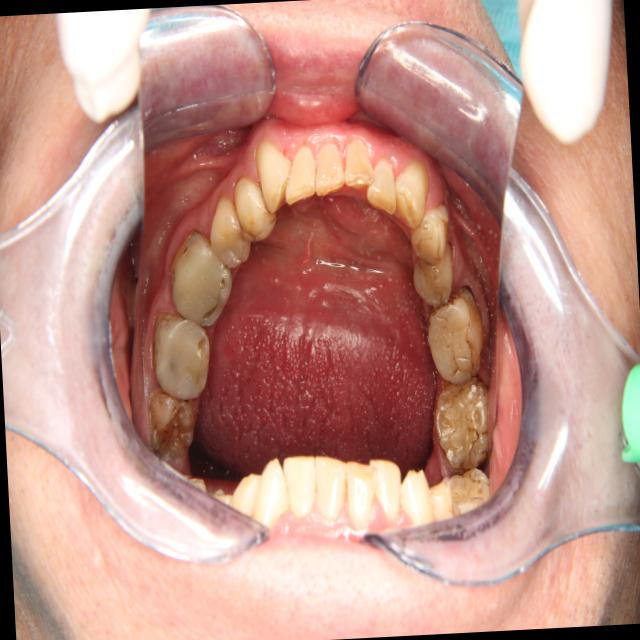tooth: (164, 224, 238, 334), (422, 277, 491, 387), (430, 369, 500, 473), (149, 306, 215, 405), (142, 377, 204, 475), (251, 128, 297, 217), (204, 189, 254, 270), (232, 171, 282, 248), (387, 153, 435, 232), (410, 237, 460, 310), (405, 198, 456, 266), (281, 138, 320, 208), (311, 134, 347, 207), (364, 152, 401, 221), (341, 135, 376, 190)
